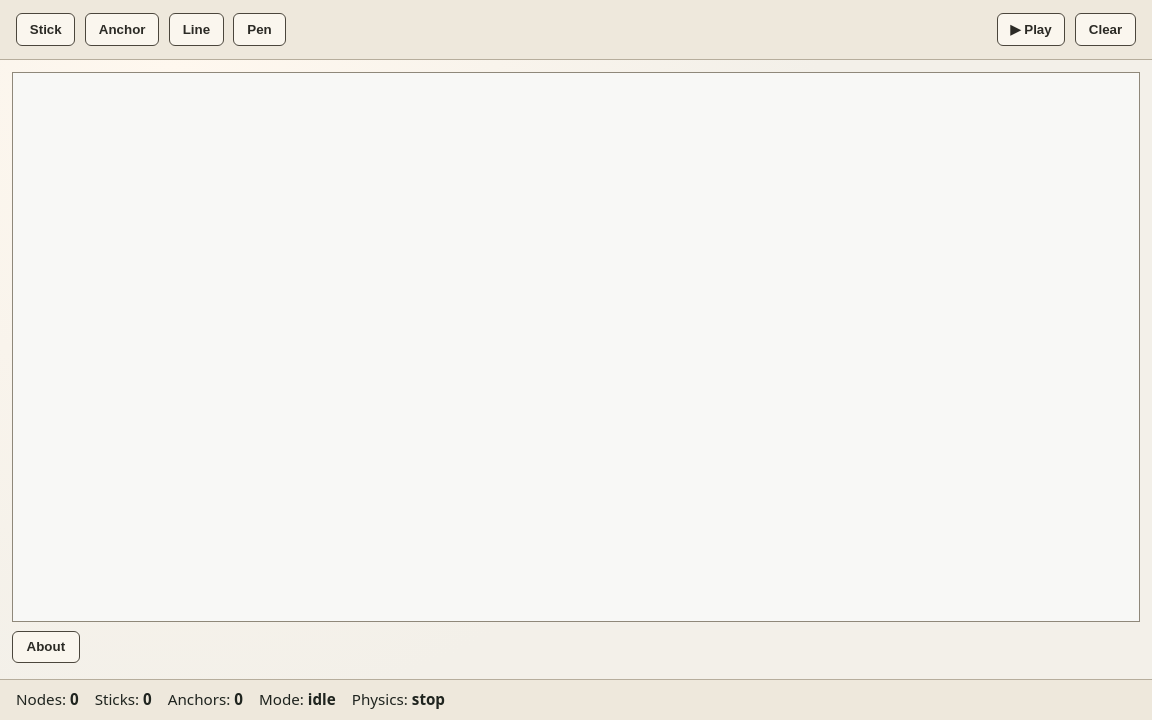
Test: App integration › creates a stick with click-drag-release in stick mode
This screenshot has width=1152, height=720.
Click the button with test id "tool-stick": x=46, y=29 16,13 -> 76,46
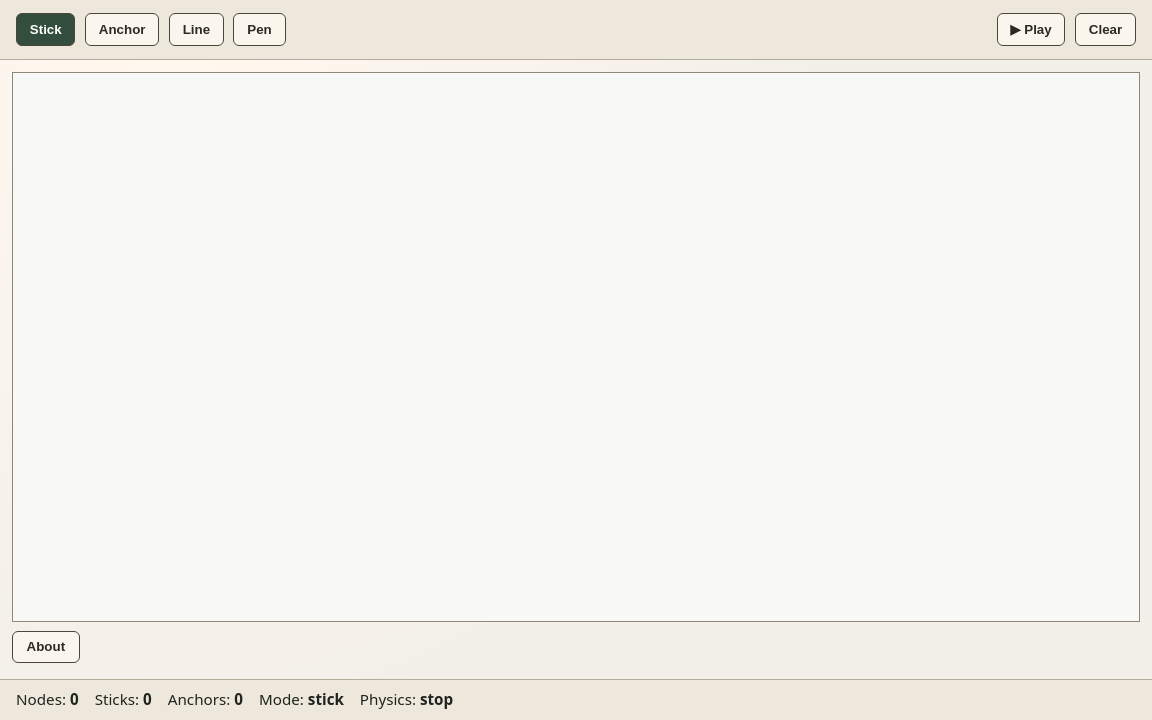
Press the mouse on the drawing with test id "linkage-canvas": x=576, y=347 12,72 -> 1140,622
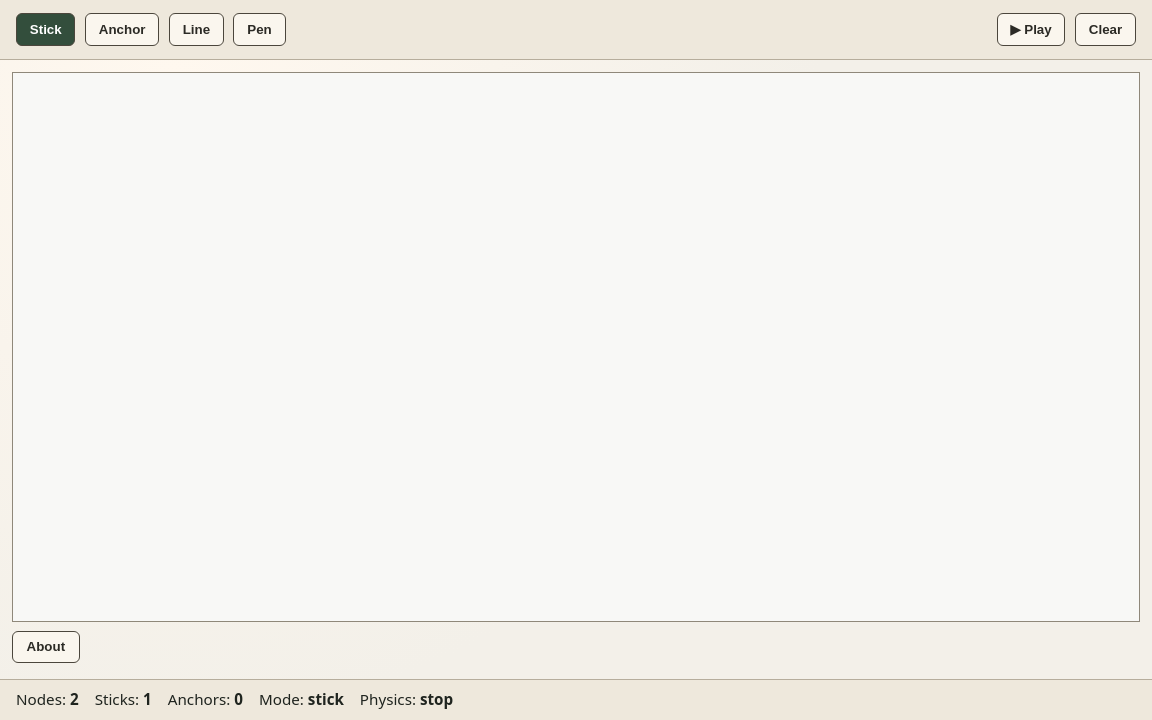
Result: the text with test id "node-count" reads "2" at 70,689 -> 79,709
Result: the text with test id "stick-count" reads "1" at 143,689 -> 152,709
